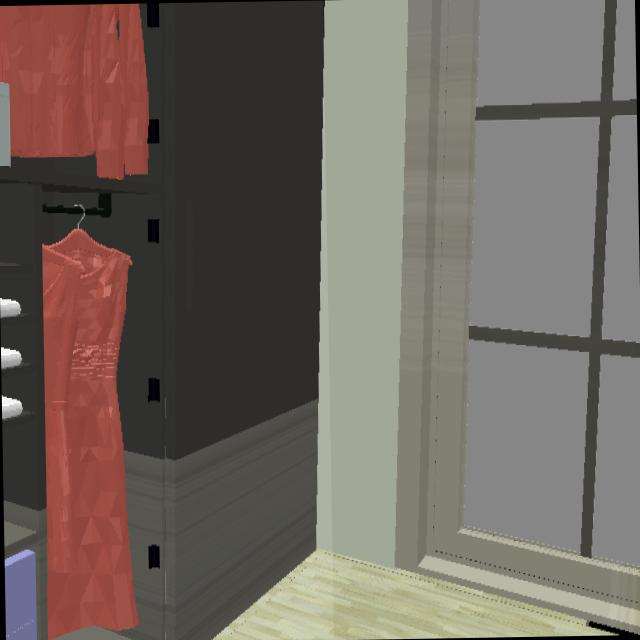wardrobe: (0, 0, 323, 640)
